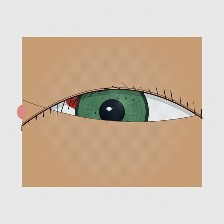hemorrhage_spot: (55, 69, 133, 132)
